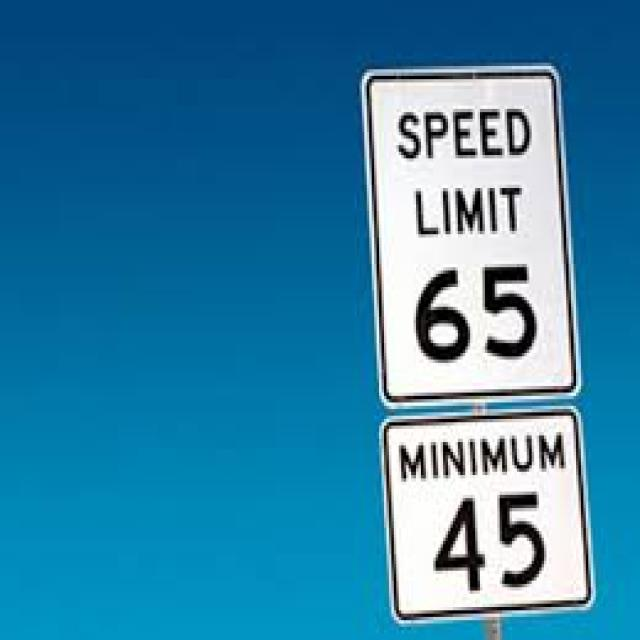speedLimit65: (346, 53, 582, 406)
